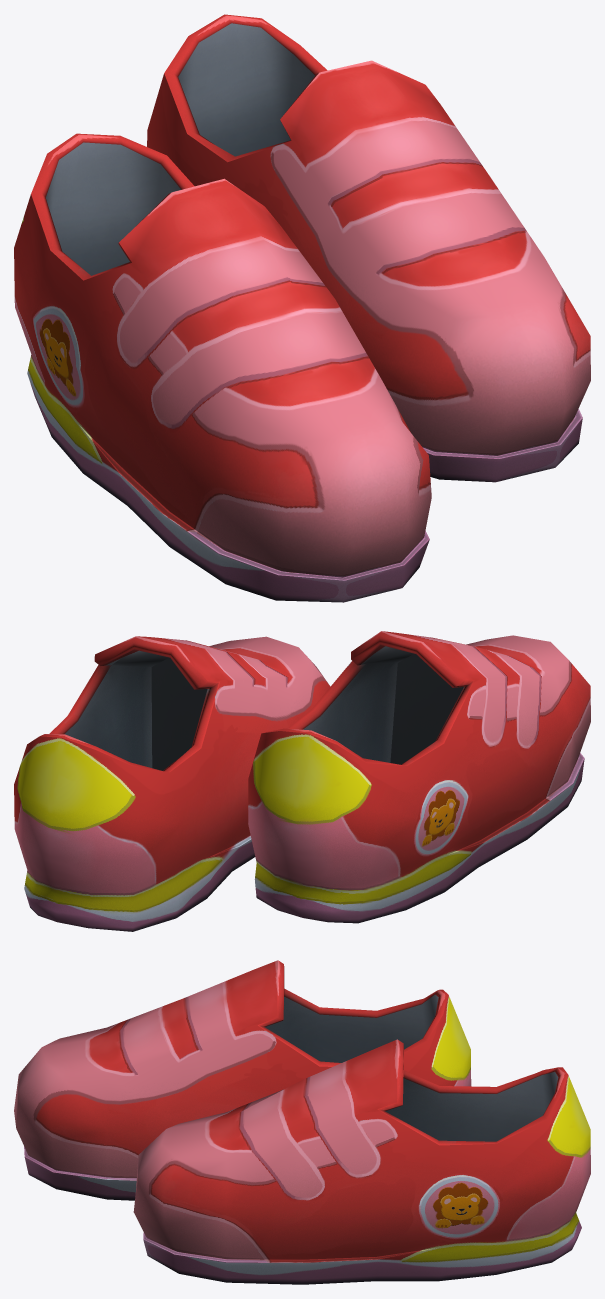
The model's file is Shoe.fbx.
The picture shows the model from 3 angles, top to bottom: view 1: azimuth 30°, elevation 25°; view 2: azimuth 150°, elevation 25°; view 3: azimuth 270°, elevation 25°; orthographic projection. The views are drawn at different scales.
Parts seen in each view (by area): view 1: 085; view 2: 085; view 3: 085.
Part boxes in pixels (x1=…): 085: x1=14, y1=14, x2=590, y2=602; 085: x1=14, y1=631, x2=590, y2=931; 085: x1=14, y1=960, x2=590, y2=1284.
Bounding box in the file's own units: 36.57 × 22.98 × 58.99.
1 material, 1 textured.
